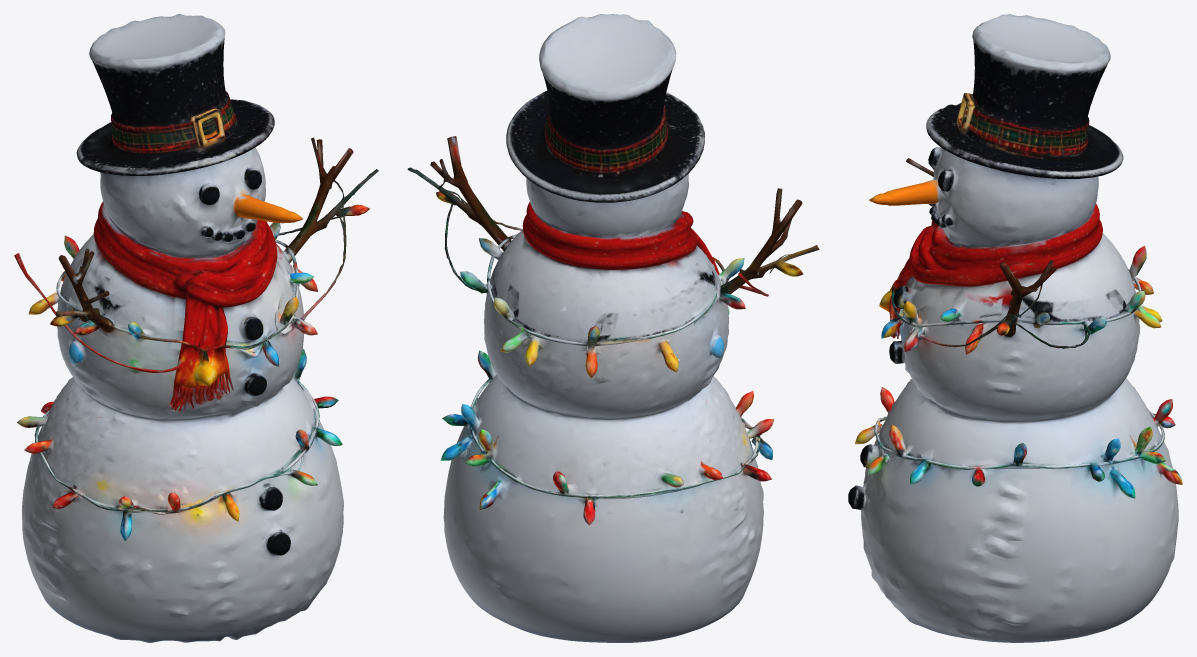
File: snowman.glb
3 views of the same model, side by side, from view 1: azimuth 30°, elevation 25°; view 2: azimuth 150°, elevation 25°; view 3: azimuth 270°, elevation 25° (orthographic).
Parts seen in each view (by area): view 1: material; view 2: material; view 3: material.
Boxes of the visible parts, x1,y1,x2,y2 form: material: [14, 14, 378, 642]; material: [407, 14, 819, 642]; material: [848, 14, 1182, 642].
Bounding box in the file's own units: 0.7393 × 1.08 × 0.5863.
1 material, 1 textured.
